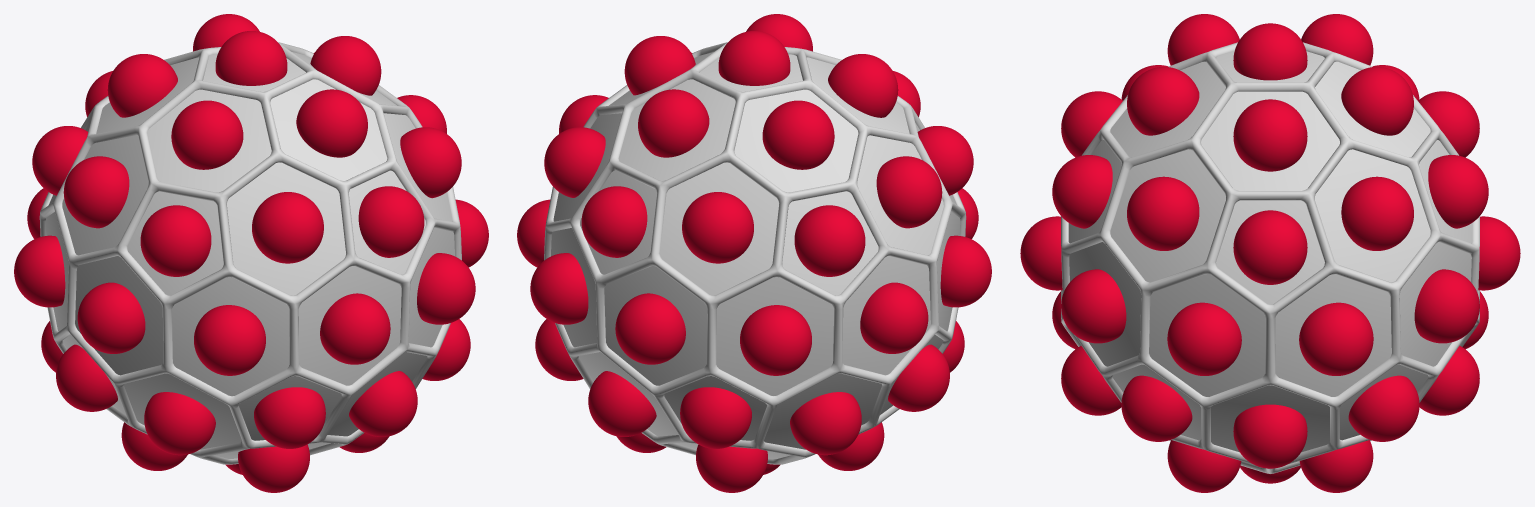
Rendered from fullerene3.fbx.
3 views of the same model, side by side, from view 1: azimuth 30°, elevation 25°; view 2: azimuth 150°, elevation 25°; view 3: azimuth 270°, elevation 25° (orthographic). The views are drawn at different scales.
Parts seen in each view (by area): view 1: Icosphere.001, Icosphere.002|Sphere|Dupli|33, Icosphere.002|Sphere|Dupli|27, Icosphere.002|Sphere|Dupli|7, Icosphere.002|Sphere|Dupli|39, Icosphere.002|Sphere|Dupli|24, Icosphere.002|Sphere|Dupli|37, Icosphere.002|Sphere|Dupli|26, Icosphere.002|Sphere|Dupli|6, Icosphere.002|Sphere|Dupli|34, Icosphere.002|Sphere|Dupli|2, Icosphere.002|Sphere|Dupli|18 (+19 smaller); view 2: Icosphere.001, Icosphere.002|Sphere|Dupli|35, Icosphere.002|Sphere|Dupli|28, Icosphere.002|Sphere|Dupli|8, Icosphere.002|Sphere|Dupli|40, Icosphere.002|Sphere|Dupli|31, Icosphere.002|Sphere|Dupli|29, Icosphere.002|Sphere|Dupli|41, Icosphere.002|Sphere|Dupli|9, Icosphere.002|Sphere|Dupli|34, Icosphere.002|Sphere|Dupli|4, Icosphere.002|Sphere|Dupli|20 (+19 smaller); view 3: Icosphere.001, Icosphere.002|Sphere|Dupli|10, Icosphere.002|Sphere|Dupli|23, Icosphere.002|Sphere|Dupli|22, Icosphere.002|Sphere|Dupli|36, Icosphere.002|Sphere|Dupli|38, Icosphere.002|Sphere|Dupli|32, Icosphere.002|Sphere|Dupli|15, Icosphere.002|Sphere|Dupli|25, Icosphere.002|Sphere|Dupli|30, Icosphere.002|Sphere|Dupli|41, Icosphere.002|Sphere|Dupli|37 (+16 smaller).
Part boxes in pixels (bbox=[...]): Icosphere.001: bbox=[39, 42, 461, 464]; Icosphere.002|Sphere|Dupli|33: bbox=[252, 192, 323, 263]; Icosphere.002|Sphere|Dupli|27: bbox=[194, 305, 265, 375]; Icosphere.002|Sphere|Dupli|7: bbox=[140, 205, 211, 276]; Icosphere.002|Sphere|Dupli|39: bbox=[171, 100, 243, 169]; Icosphere.002|Sphere|Dupli|24: bbox=[320, 293, 390, 364]; Icosphere.002|Sphere|Dupli|37: bbox=[296, 89, 367, 157]; Icosphere.002|Sphere|Dupli|26: bbox=[77, 282, 145, 353]; Icosphere.002|Sphere|Dupli|6: bbox=[358, 186, 424, 257]; Icosphere.002|Sphere|Dupli|34: bbox=[63, 156, 129, 228]; Icosphere.002|Sphere|Dupli|2: bbox=[254, 387, 325, 448]; Icosphere.002|Sphere|Dupli|18: bbox=[144, 392, 215, 455]; Icosphere.001: bbox=[544, 42, 966, 464]; Icosphere.002|Sphere|Dupli|35: bbox=[682, 192, 753, 263]; Icosphere.002|Sphere|Dupli|28: bbox=[740, 305, 811, 375]; Icosphere.002|Sphere|Dupli|8: bbox=[794, 205, 865, 276]; Icosphere.002|Sphere|Dupli|40: bbox=[762, 100, 834, 169]; Icosphere.002|Sphere|Dupli|31: bbox=[615, 293, 685, 364]; Icosphere.002|Sphere|Dupli|29: bbox=[860, 282, 928, 353]; Icosphere.002|Sphere|Dupli|41: bbox=[638, 89, 709, 157]; Icosphere.002|Sphere|Dupli|9: bbox=[581, 186, 647, 257]; Icosphere.002|Sphere|Dupli|34: bbox=[876, 156, 942, 228]; Icosphere.002|Sphere|Dupli|4: bbox=[680, 387, 751, 448]; Icosphere.002|Sphere|Dupli|20: bbox=[790, 392, 861, 455]; Icosphere.001: bbox=[1061, 42, 1479, 473]; Icosphere.002|Sphere|Dupli|10: bbox=[1233, 210, 1307, 284]; Icosphere.002|Sphere|Dupli|23: bbox=[1299, 302, 1373, 375]; Icosphere.002|Sphere|Dupli|22: bbox=[1167, 302, 1241, 375]; Icosphere.002|Sphere|Dupli|36: bbox=[1341, 176, 1413, 250]; Icosphere.002|Sphere|Dupli|38: bbox=[1233, 99, 1307, 171]; Icosphere.002|Sphere|Dupli|32: bbox=[1127, 176, 1199, 250]; Icosphere.002|Sphere|Dupli|15: bbox=[1233, 404, 1307, 468]; Icosphere.002|Sphere|Dupli|25: bbox=[1061, 269, 1126, 343]; Icosphere.002|Sphere|Dupli|30: bbox=[1414, 269, 1479, 343]; Icosphere.002|Sphere|Dupli|41: bbox=[1341, 67, 1413, 135]; Icosphere.002|Sphere|Dupli|37: bbox=[1127, 67, 1199, 135].
Size of the model in its own units: 204 by 213 by 213.
